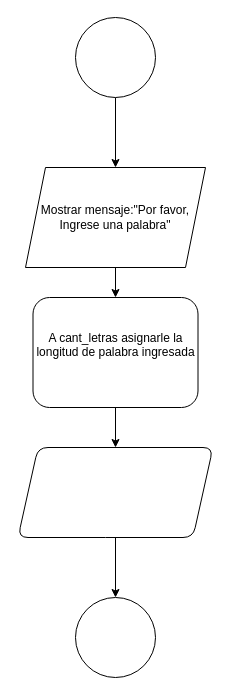
This 230x695 diagram has some shape labels left out. The shapes that lost their labels are listed below. From the top down, each one's centre as x and y in pixels, then its label:
point (115, 57): Inicio
point (115, 492): Mostrar mensaje:"La palabra tiene 'cant_letras' letras"
